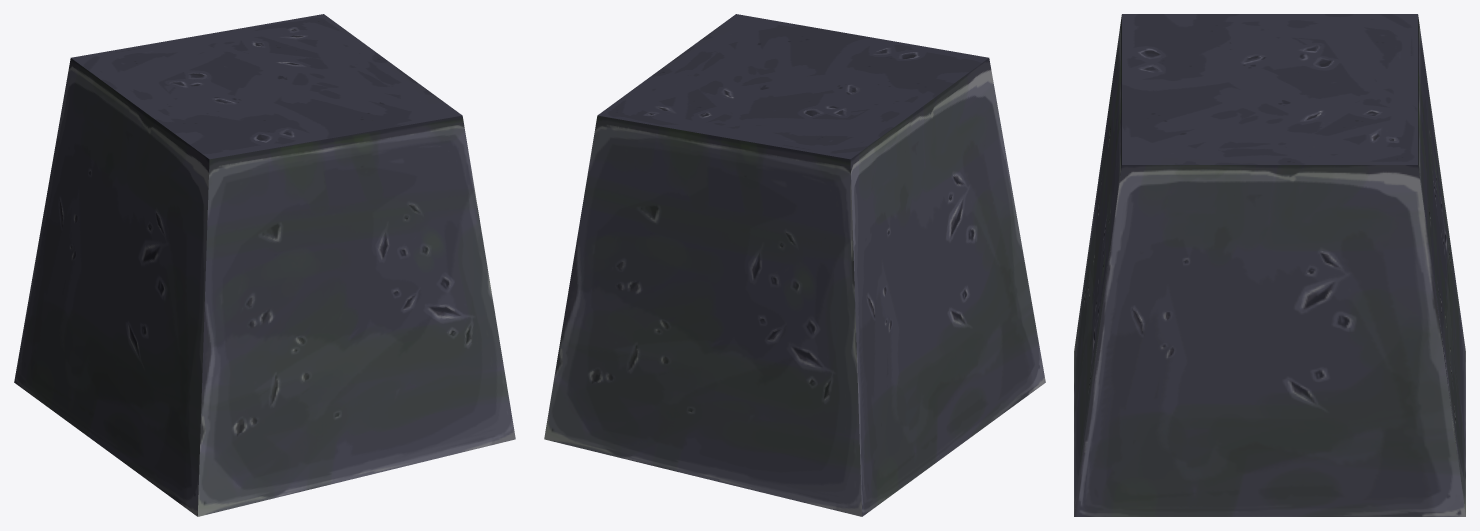
File: MOD_Column_01_block_3.fbx
3 renders of one model, left to right at view 1: azimuth 30°, elevation 25°; view 2: azimuth 150°, elevation 25°; view 3: azimuth 270°, elevation 25°, orthographic. The views are drawn at different scales.
Parts seen in each view (by area): view 1: MOD_Column_01_block_3; view 2: MOD_Column_01_block_3; view 3: MOD_Column_01_block_3.
Part boxes in pixels (left/top/right/bottom): MOD_Column_01_block_3: left=14, top=14, right=515, bottom=516; MOD_Column_01_block_3: left=544, top=14, right=1045, bottom=516; MOD_Column_01_block_3: left=1074, top=14, right=1465, bottom=516.
Size of the model in its own units: 100 by 100 by 100.
